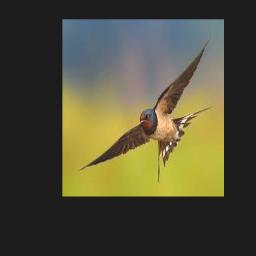Swallow: (79, 37, 212, 182)
